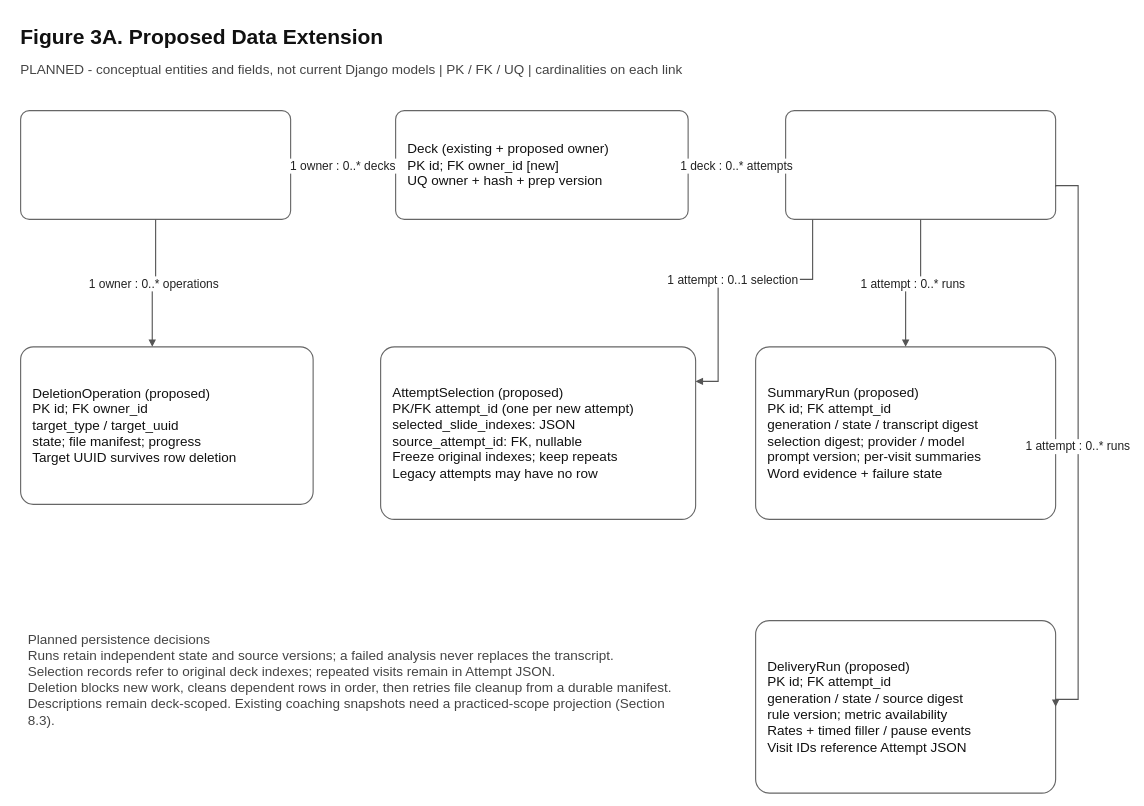
The diagram is 1144 pixels wide and 806 high, and some of its shapes have lost their labels. Each missing label, with the centre of its shape:
"Attempt (existing) PK id; FK deck_id Transcript / visits stay here" belongs at (920,165).
"Owner (proposed) PK id; UQ (issuer, subject) Maps validated identity token" belongs at (155,165).
